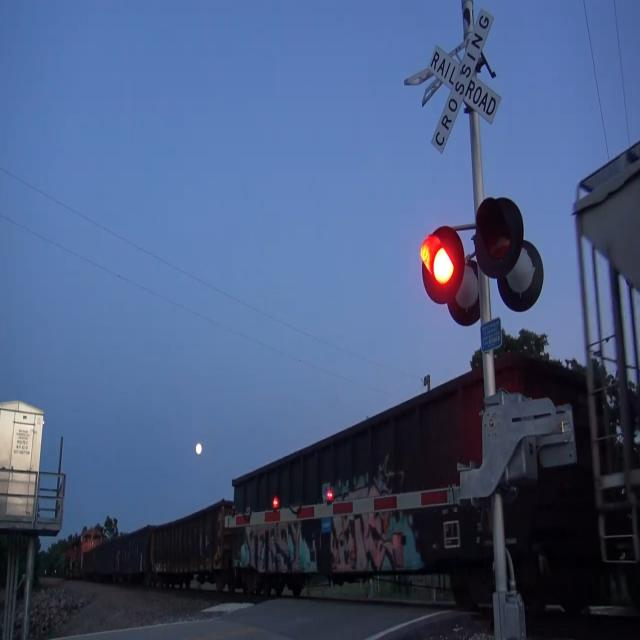gondola: (225, 329, 587, 606), (147, 492, 232, 599)
